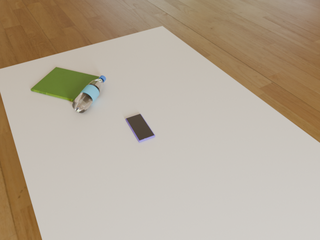book: (31, 67, 99, 102)
bottle: (72, 76, 106, 113)
phone: (126, 114, 155, 142)
